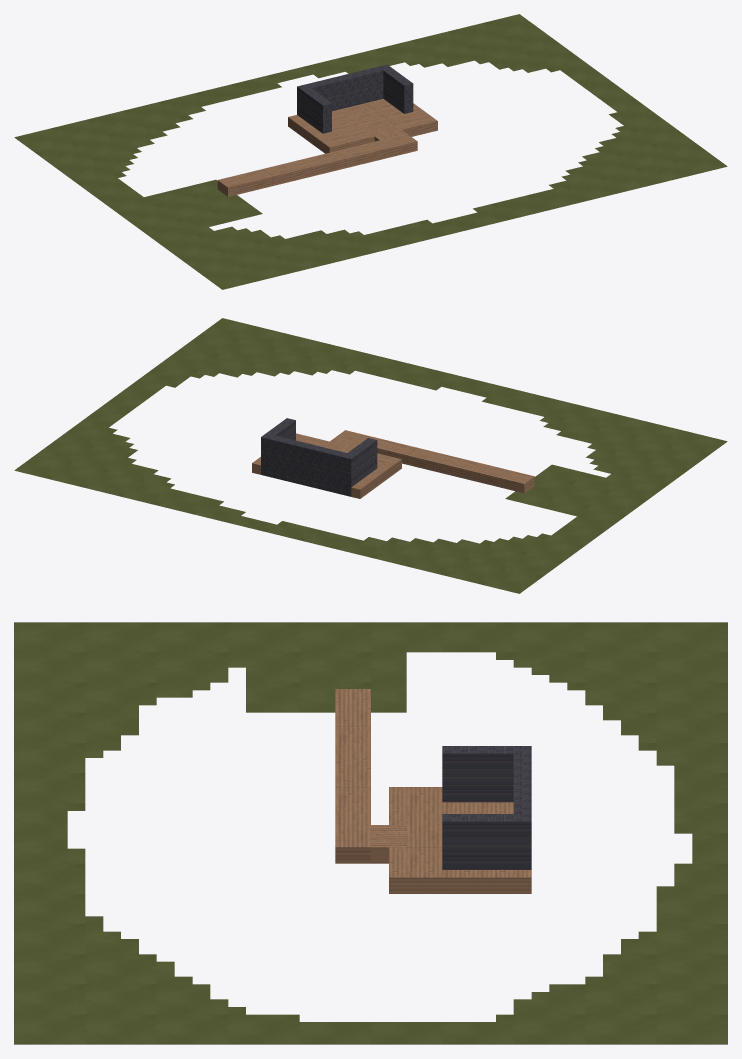
The model's file is viewer_terrain.obj.
3 renders of one model, top to bottom at view 1: azimuth 30°, elevation 25°; view 2: azimuth 150°, elevation 25°; view 3: azimuth 270°, elevation 25°, orthographic. The views are drawn at different scales.
Parts seen in each view (by area): view 1: grass, planks_x, wall_ground; view 2: grass, wall_ground, planks_x; view 3: grass, planks_x, wall_ground, planks_y.
Part boxes in pixels (x1,y1,x2,y2): grass: (14, 14, 727, 289); planks_x: (217, 99, 437, 196); wall_ground: (297, 64, 413, 133); grass: (14, 318, 727, 593); wall_ground: (261, 418, 377, 496); planks_x: (252, 430, 534, 498); grass: (14, 622, 727, 1044); planks_x: (335, 689, 531, 893); wall_ground: (442, 746, 531, 869); planks_y: (371, 825, 406, 863).
Size of the model in its own units: 896 by 64 by 640.
4 materials, 4 textured.
